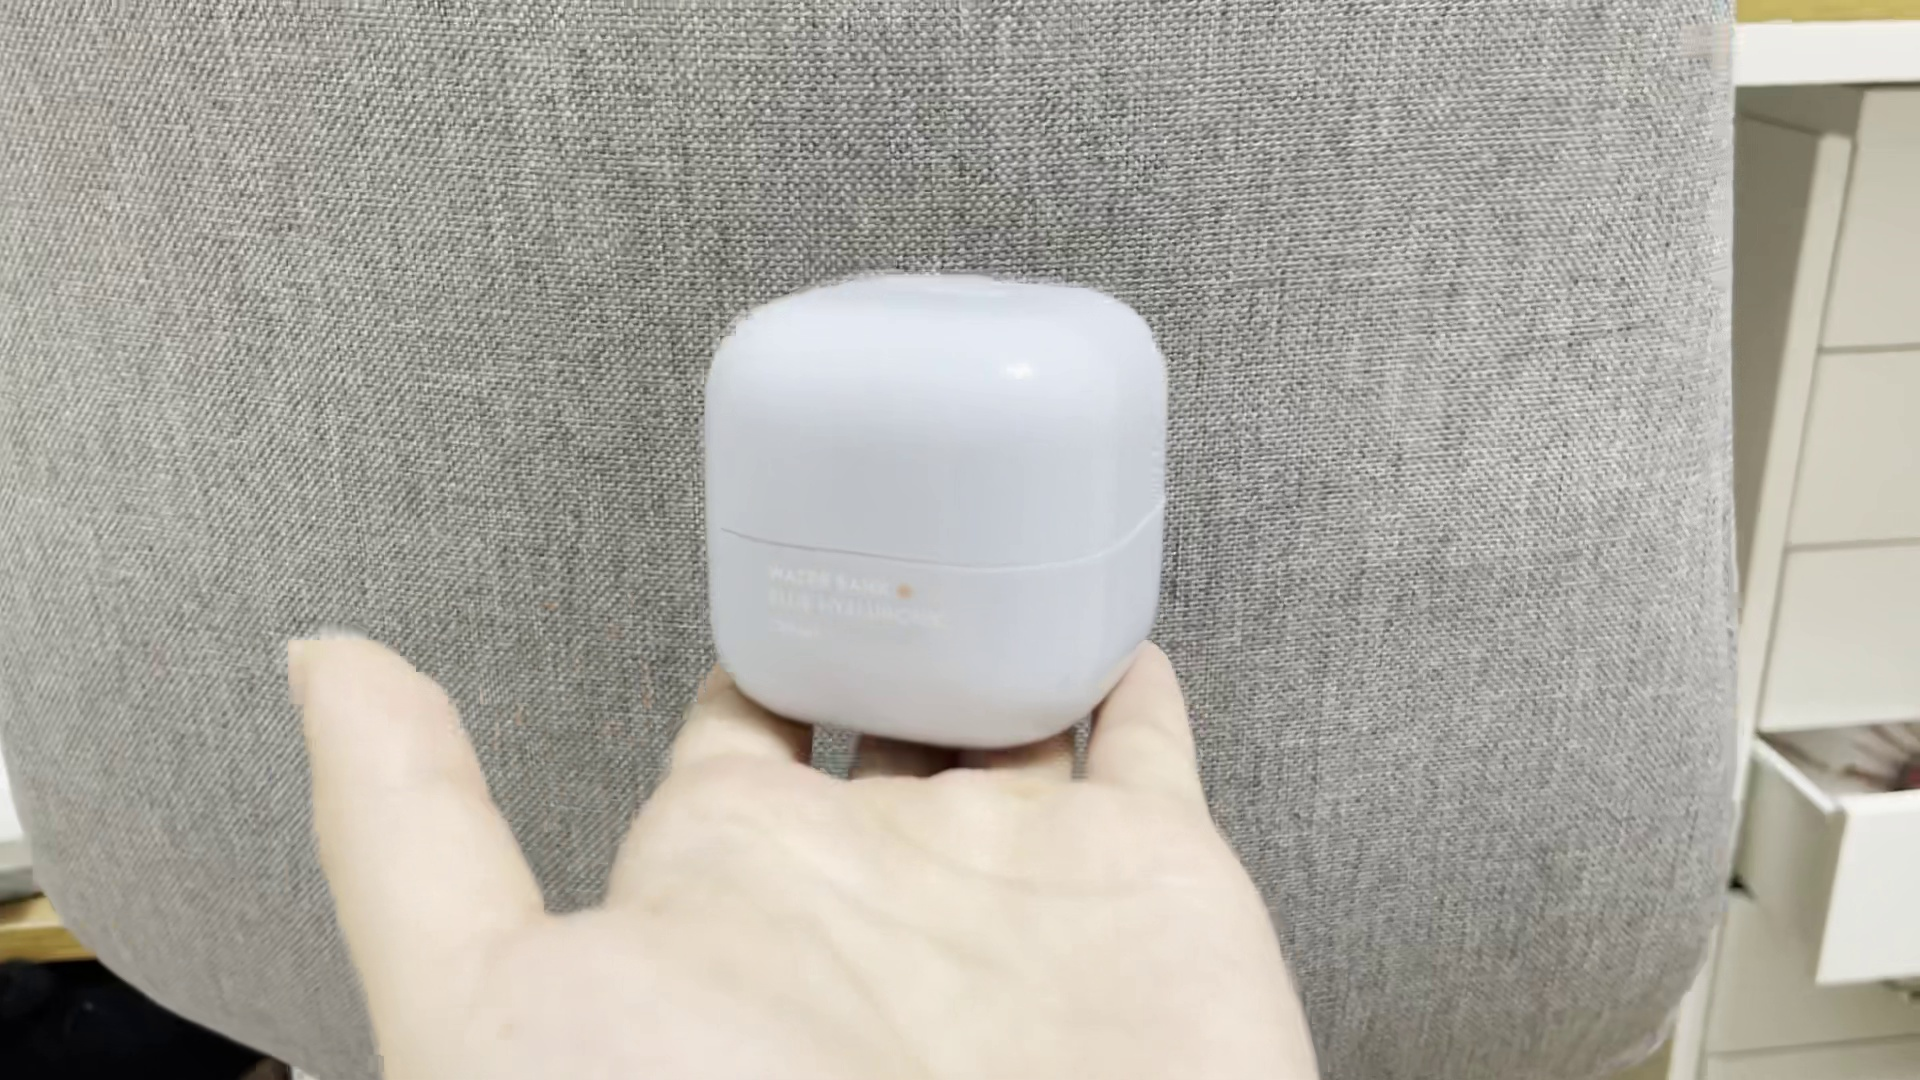cream: (708, 274, 1164, 744)
